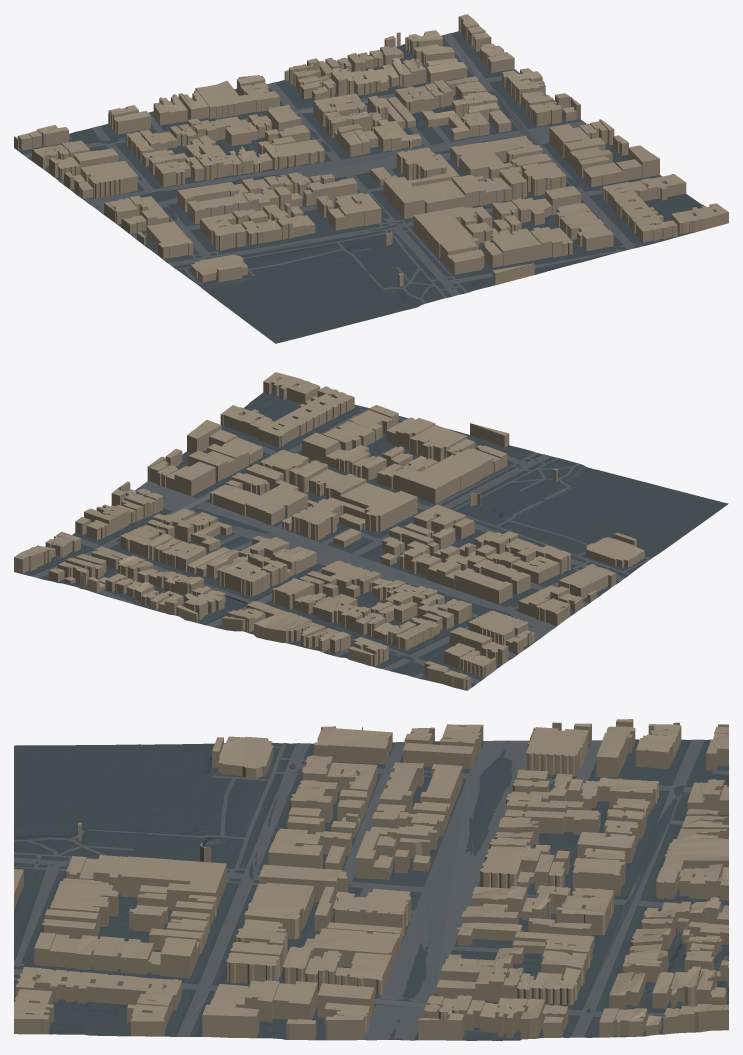
File: epsg26910-1432-10895.lod0.glb
The picture shows the model from 3 angles, top to bottom: view 1: azimuth 30°, elevation 25°; view 2: azimuth 150°, elevation 25°; view 3: azimuth 270°, elevation 25°; orthographic projection. The views are drawn at different scales.
Parts seen in each view (by area): view 1: epsg26910-1432-10895-lod0; view 2: epsg26910-1432-10895-lod0; view 3: epsg26910-1432-10895-lod0.
Part boxes in pixels (<box>): epsg26910-1432-10895-lod0: <box>14,14,728,343</box>; epsg26910-1432-10895-lod0: <box>14,372,728,690</box>; epsg26910-1432-10895-lod0: <box>14,719,728,1040</box>.
Bounding box in the file's own units: 384 × 22.31 × 384.
